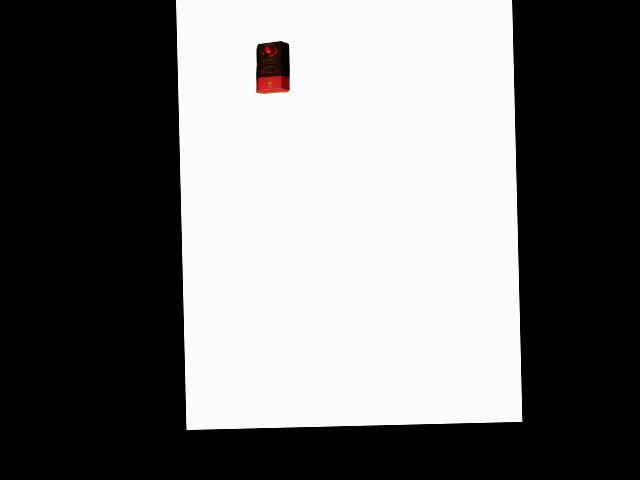chocolate: (254, 36, 291, 95)
